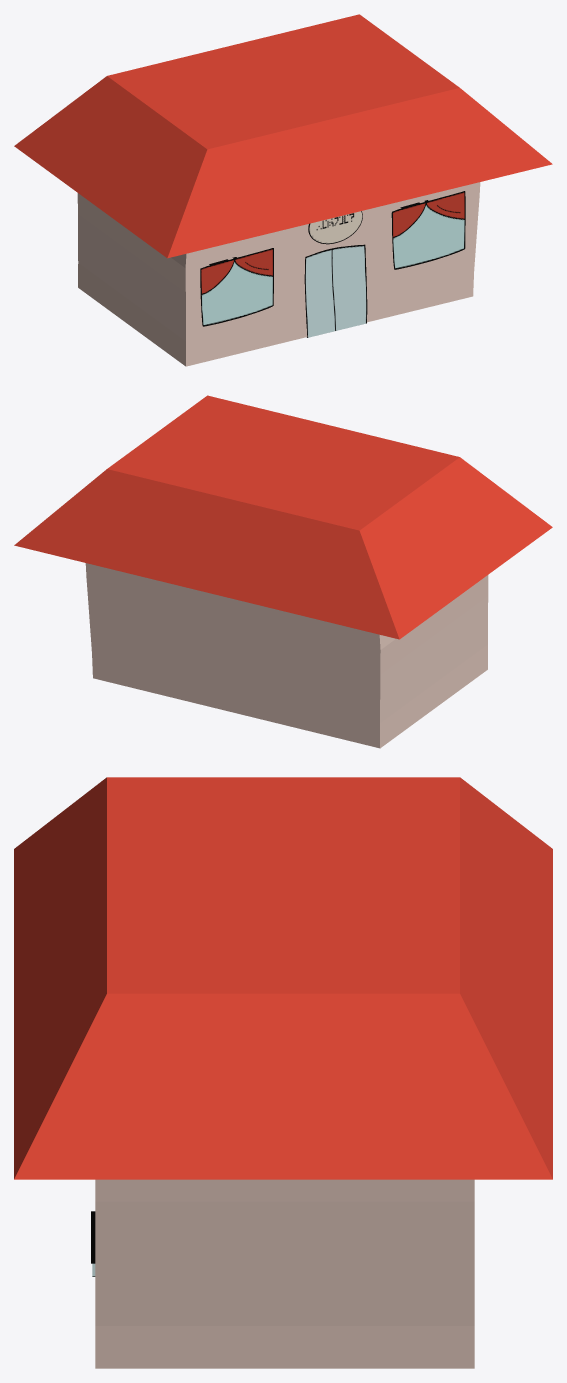
The model's file is Building no 3.fbx.
The picture shows the model from 3 angles, top to bottom: view 1: azimuth 30°, elevation 25°; view 2: azimuth 150°, elevation 25°; view 3: azimuth 270°, elevation 25°; orthographic projection. The views are drawn at different scales.
Parts seen in each view (by area): view 1: Roof, Building, Plane.003, Plane, Plane.001, Plane.002; view 2: Roof, Building; view 3: Roof, Building.
Part boxes in pixels (x1,y1,x2,y2): Roof: (14, 14, 552, 258); Building: (77, 182, 480, 366); Plane.003: (304, 244, 367, 337); Plane: (391, 191, 465, 269); Plane.001: (200, 248, 273, 326); Plane.002: (308, 211, 362, 244); Roof: (14, 395, 552, 639); Building: (85, 563, 488, 748); Roof: (14, 777, 552, 1179); Building: (95, 1179, 474, 1368).
Bounding box in the file's own units: 413 × 213 × 284.
